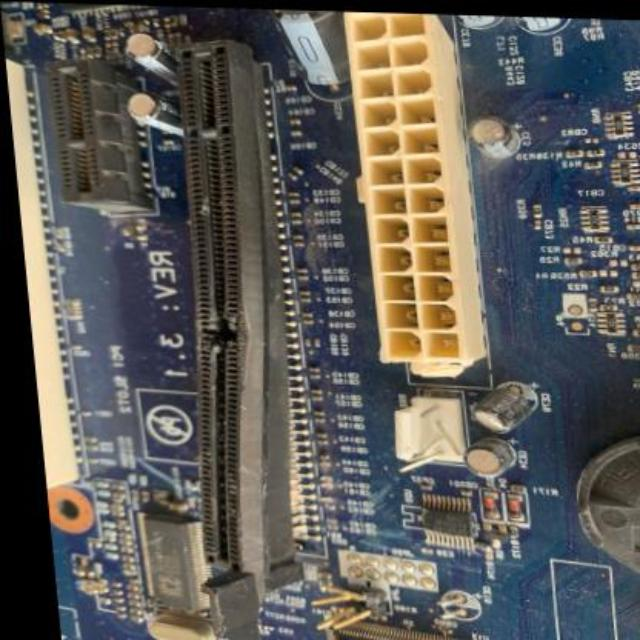PCB: (0, 6, 640, 640)
